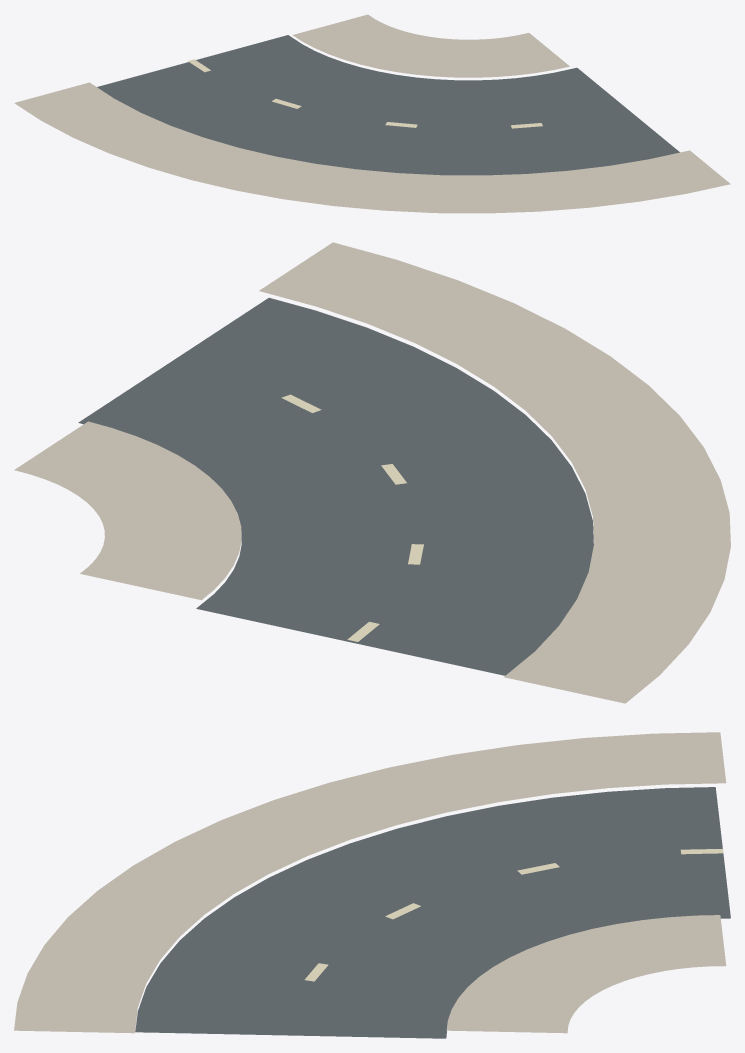
Rendered from curved-road.glb.
3 views of the same model, one above another, from view 1: azimuth 30°, elevation 25°; view 2: azimuth 150°, elevation 25°; view 3: azimuth 270°, elevation 25° (orthographic). The views are drawn at different scales.
Parts seen in each view (by area): view 1: Carriageway, Batch_Sidewalk stone_, Batch_Road paint_; view 2: Carriageway, Batch_Sidewalk stone_, Batch_Road paint_; view 3: Carriageway, Batch_Sidewalk stone_, Batch_Road paint_.
Part boxes in pixels (x1,y1,x2,y2): Carriageway: [97, 35, 679, 175]; Batch_Sidewalk stone_: [14, 14, 730, 213]; Batch_Road paint_: [188, 59, 542, 128]; Carriageway: [78, 297, 593, 675]; Batch_Sidewalk stone_: [14, 242, 730, 703]; Batch_Road paint_: [281, 394, 423, 641]; Carriageway: [135, 787, 730, 1038]; Batch_Sidewalk stone_: [14, 732, 726, 1033]; Batch_Road paint_: [304, 848, 723, 981].
Bounding box in the file's own units: 2.37 × 0.013 × 2.37.
